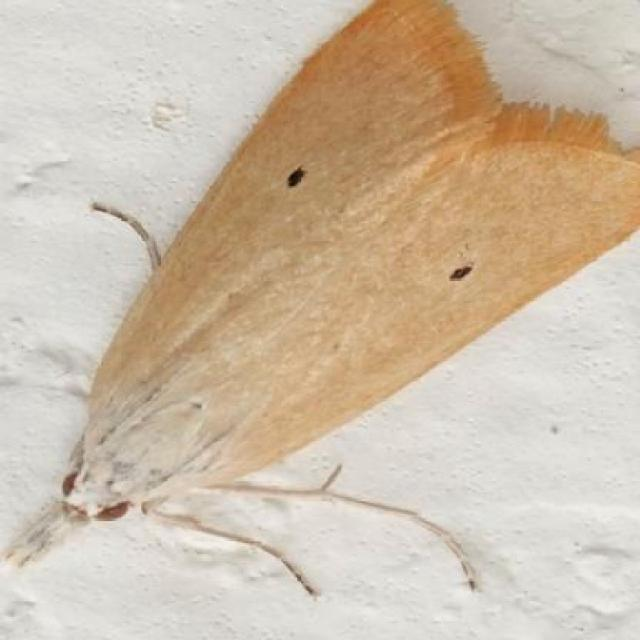stem-borer: (3, 0, 640, 597)
